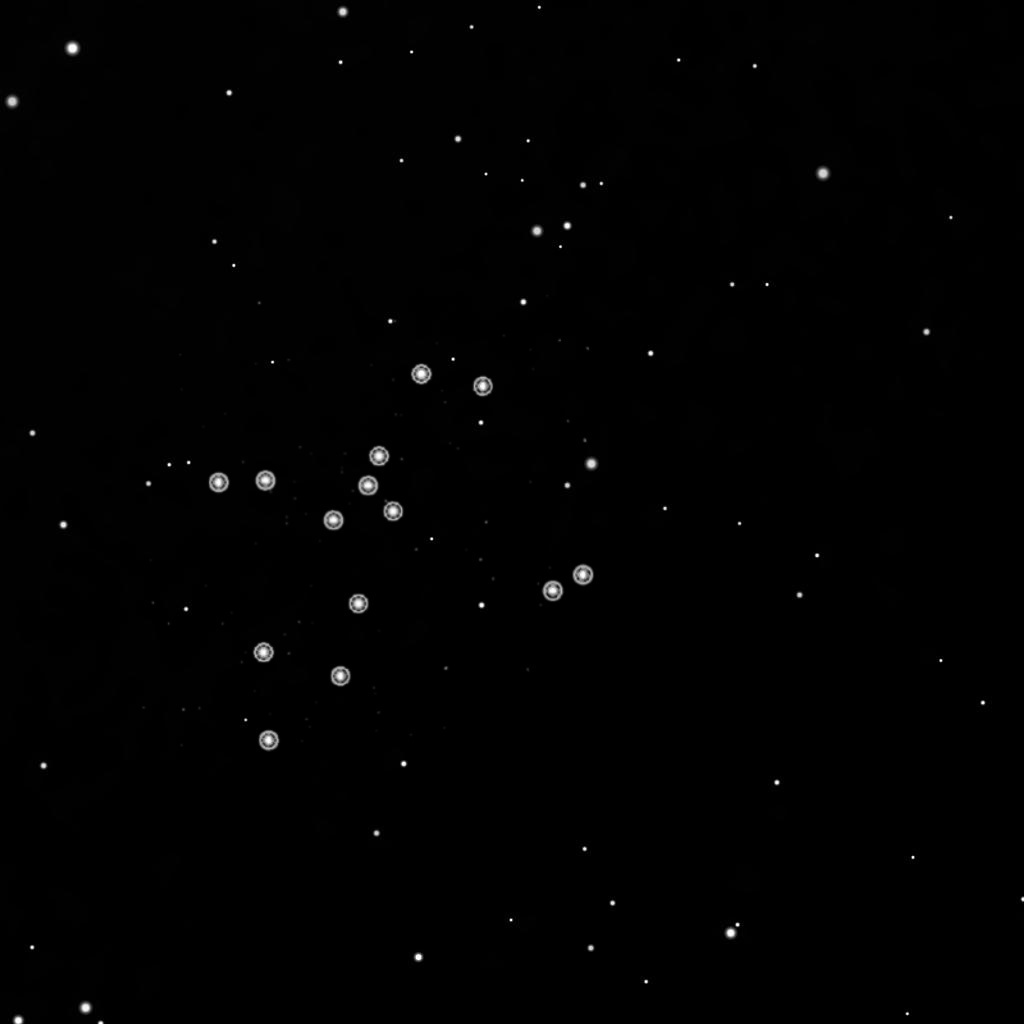canis_major: (317, 361, 498, 537)
